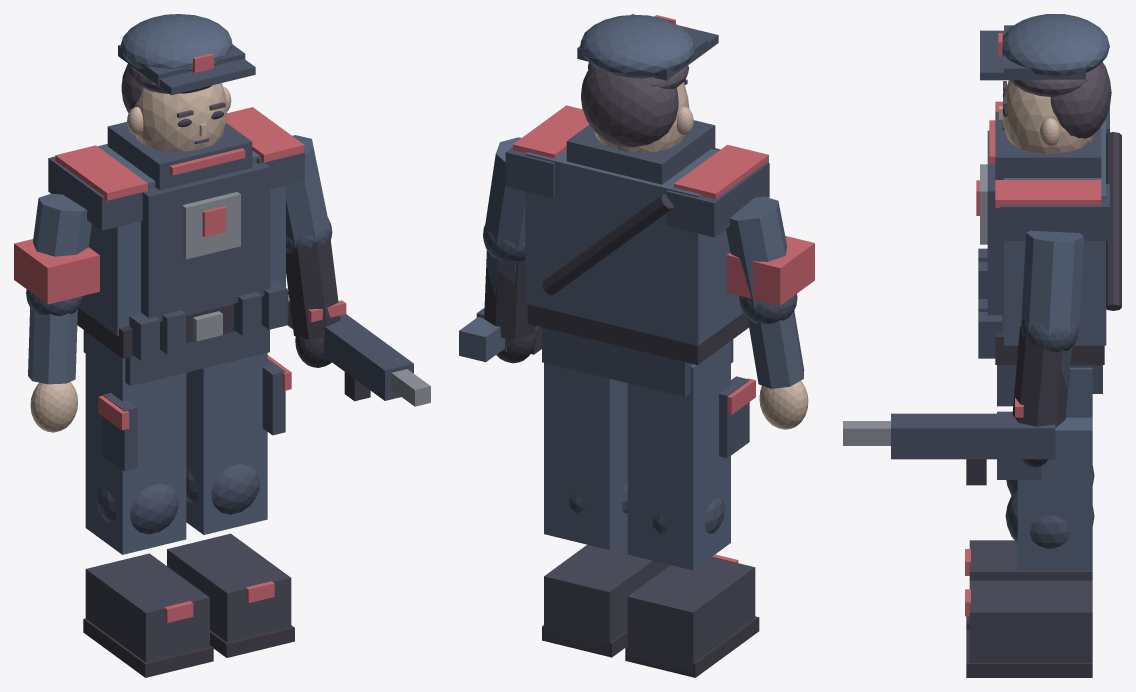
Rendered from ferri_prototipo_v0.glb.
The picture shows the model from 3 angles, left to right: view 1: azimuth 30°, elevation 25°; view 2: azimuth 150°, elevation 25°; view 3: azimuth 270°, elevation 25°; orthographic projection. The views are drawn at different scales.
Parts seen in each view (by area): view 1: trouser_L, vest, trouser_R, boot_L, boot_R, torso_uniform, cap_crown, head, collar, arma_receiver, right_long_glove, left_red_armband (+30 smaller); view 2: torso_uniform, trouser_L, trouser_R, boot_L, boot_R, hair_back, cap_crown, pelvis, collar, belt, left_red_armband, upper_arm_L (+21 smaller); view 3: boot_R, trouser_R, arma_receiver, upper_arm_R, torso_uniform, cap_crown, right_long_glove, collar, shoulder_pad_0.27, head, boot_L, hair_back (+19 smaller).
Part boxes in pixels (x1,y1,x2,y2): trouser_L: (85,331,186,554); vest: (141,162,270,321); trouser_R: (186,353,267,534); boot_L: (85,553,209,662); boot_R: (167,533,291,642); torso_uniform: (79,144,285,336); cap_crown: (120,14,232,70); head: (135,83,227,151); collar: (107,122,252,190); arma_receiver: (323,314,413,400); right_long_glove: (286,234,340,339); left_red_armband: (14,239,99,304); torso_uniform: (525,149,743,345); trouser_L: (627,341,730,570); trouser_R: (544,363,627,549); boot_L: (627,557,755,674); boot_R: (544,537,670,654); hair_back: (581,67,678,147); cap_crown: (580,15,694,78); pelvis: (542,327,733,396); collar: (566,120,715,184); belt: (527,304,748,364); left_red_armband: (726,236,814,305); upper_arm_L: (726,196,793,309); boot_R: (969,580,1092,662); trouser_R: (1017,367,1092,570); arma_receiver: (891,413,1055,459); upper_arm_R: (1021,230,1084,335); torso_uniform: (1004,118,1106,345); cap_crown: (1002,14,1109,77); right_long_glove: (1012,325,1069,427); collar: (995,111,1101,179); shoulder_pad_0.27: (1000,184,1109,240); head: (1002,80,1093,153); boot_L: (969,540,1092,580); hair_back: (1050,62,1111,138).
Bounding box in the file's own units: 1.07 × 1.99 × 0.815.
